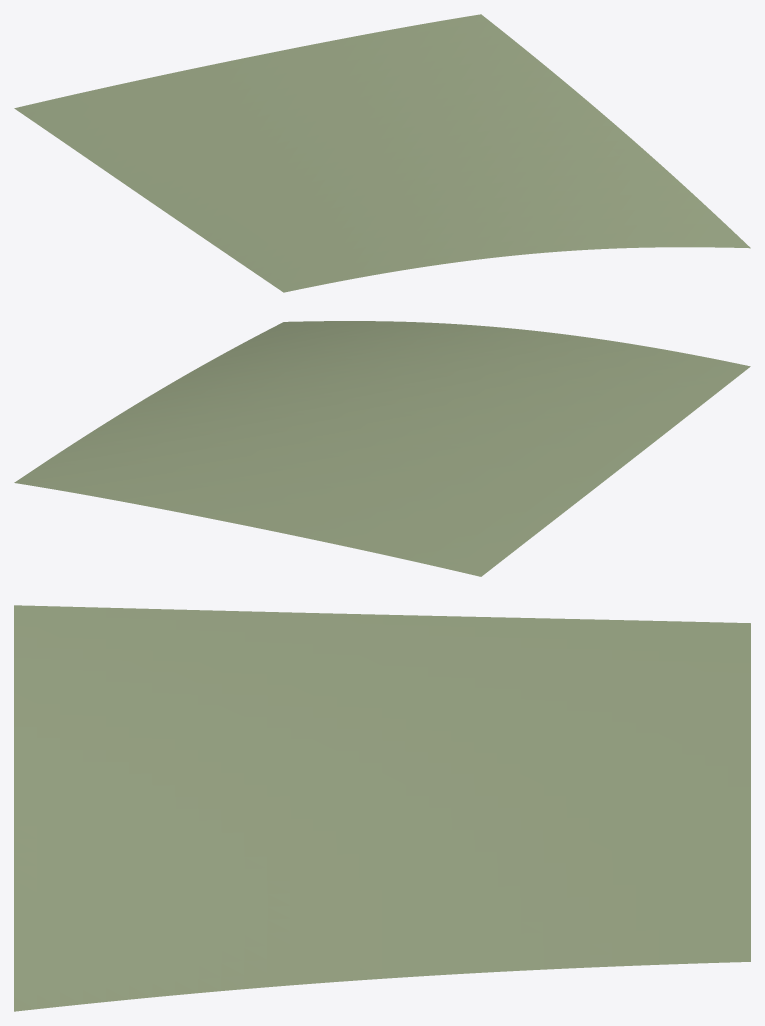
Rendered from expanse-7-22.glb.
The picture shows the model from 3 angles, top to bottom: view 1: azimuth 30°, elevation 25°; view 2: azimuth 150°, elevation 25°; view 3: azimuth 270°, elevation 25°; orthographic projection. The views are drawn at different scales.
Parts seen in each view (by area): view 1: expanse-7-22; view 2: expanse-7-22; view 3: expanse-7-22.
Part boxes in pixels (box(x1,y1,x2,y2)): expanse-7-22: box(14, 14, 750, 292); expanse-7-22: box(14, 321, 750, 576); expanse-7-22: box(14, 605, 750, 1011).
Bounding box in the file's own units: 256 × 36.39 × 256.
